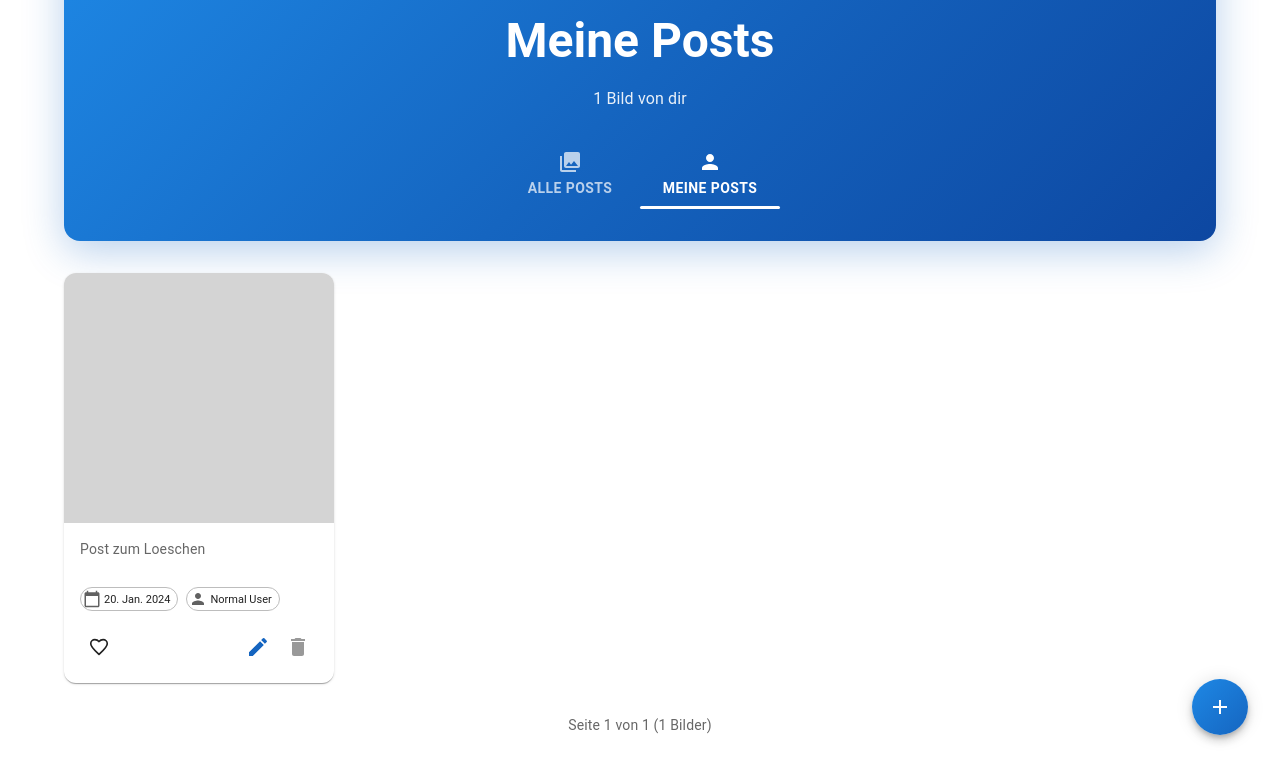
Scenario: User delete post › removes a post after confirmation
(page scrolled)
Click the button with test id ":has(svg[data-testid=\"DeleteIcon\"])". click: (298, 647)
box: [278, 627, 318, 667]
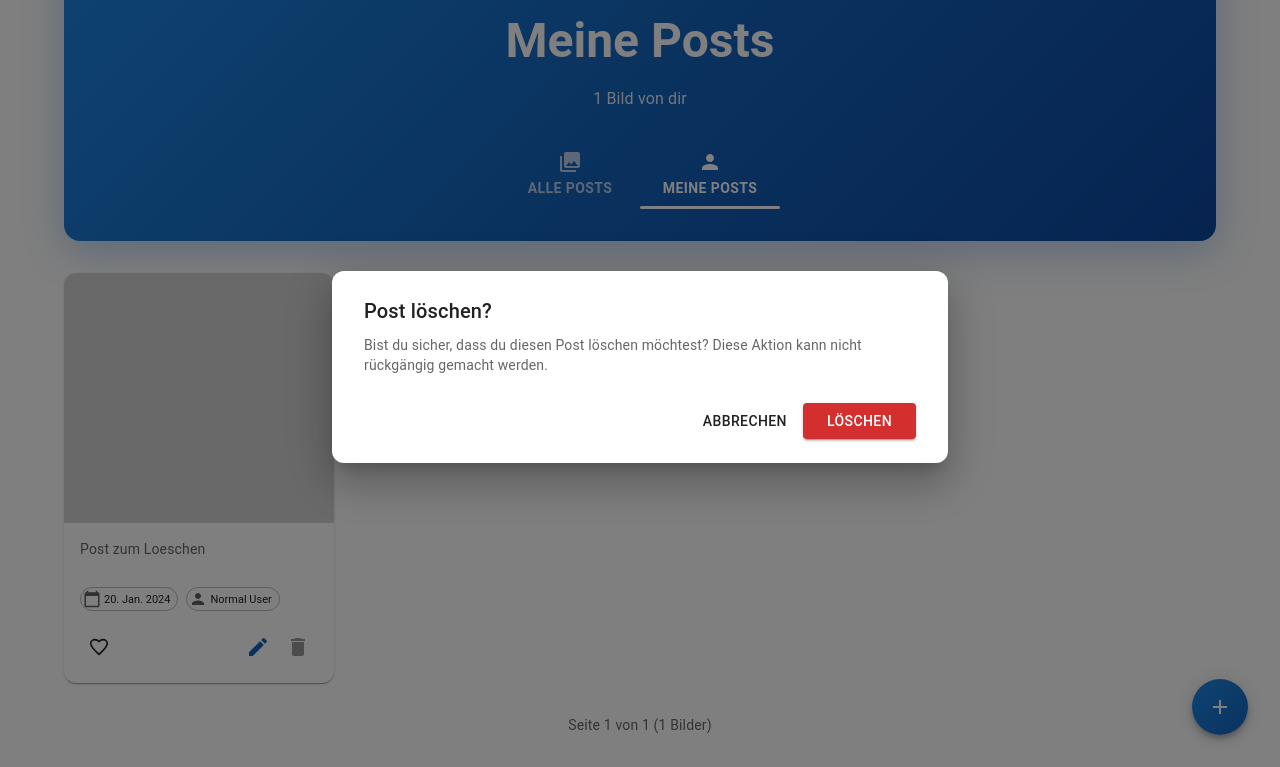
Click the button "Löschen". click: (860, 422)
box: [803, 403, 916, 440]
(page scrolled)
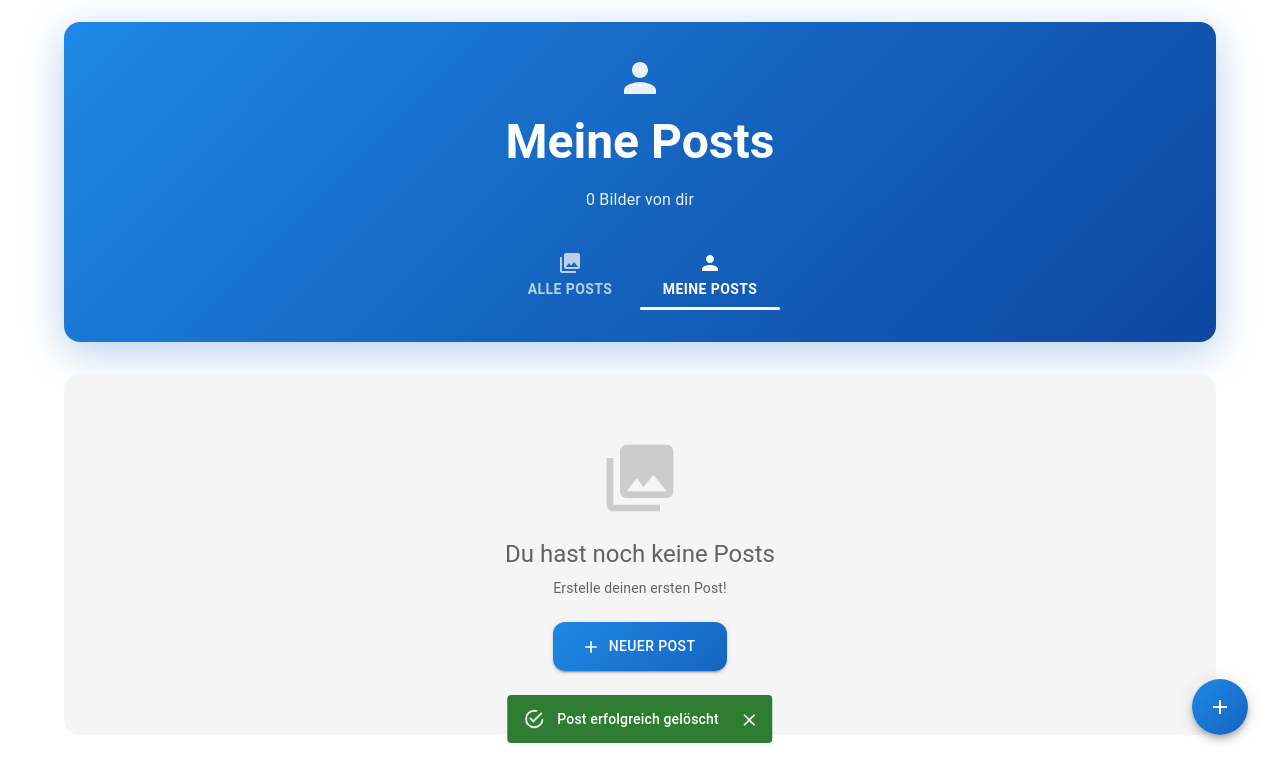
Check: the text "Post erfolgreich" is shown, box [557, 711, 718, 727]
Check: the heading "Du hast noch keine Posts" is shown, box [505, 540, 775, 568]
